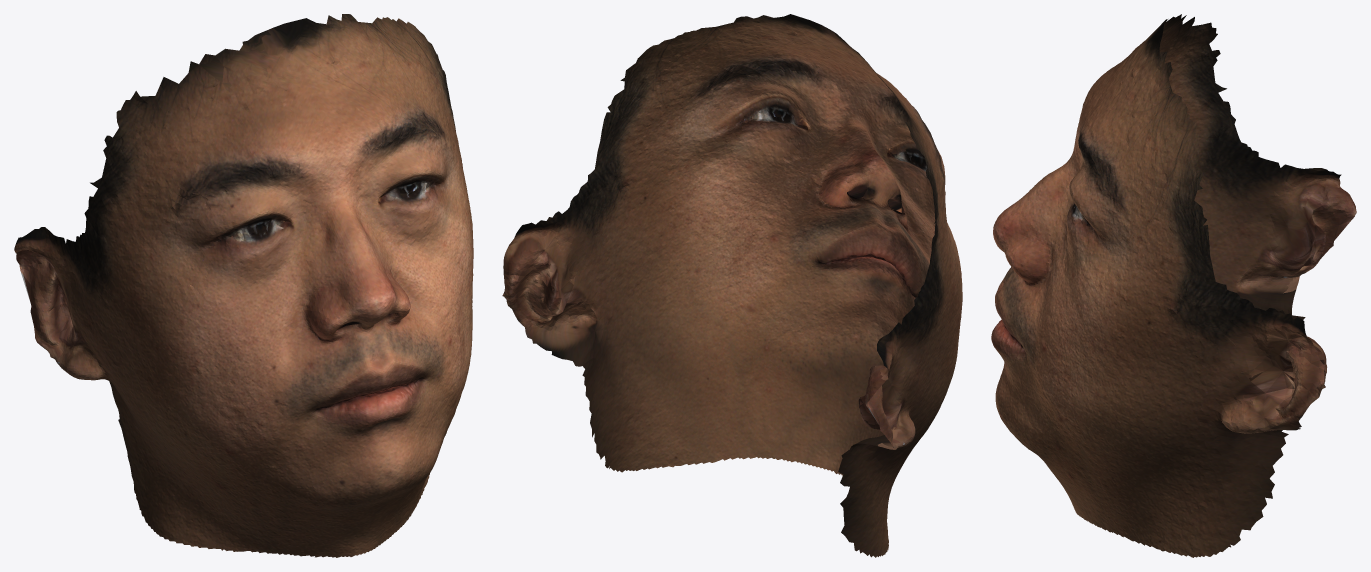
File: face_scan.obj
The picture shows the model from 3 angles, left to right: view 1: azimuth 30°, elevation 25°; view 2: azimuth 150°, elevation 25°; view 3: azimuth 270°, elevation 25°; orthographic projection. The views are drawn at different scales.
Bounding box in the file's own units: 0.1982 × 0.2372 × 0.1658.
1 material, 1 textured.
